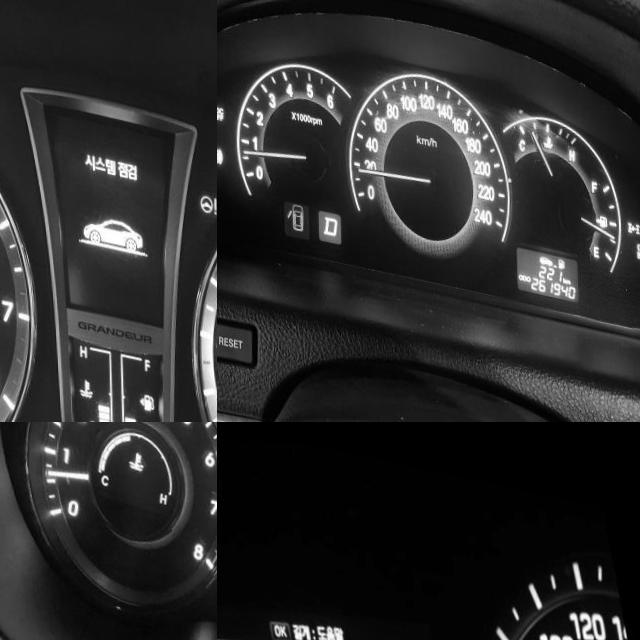Doors: (283, 193, 302, 224)
